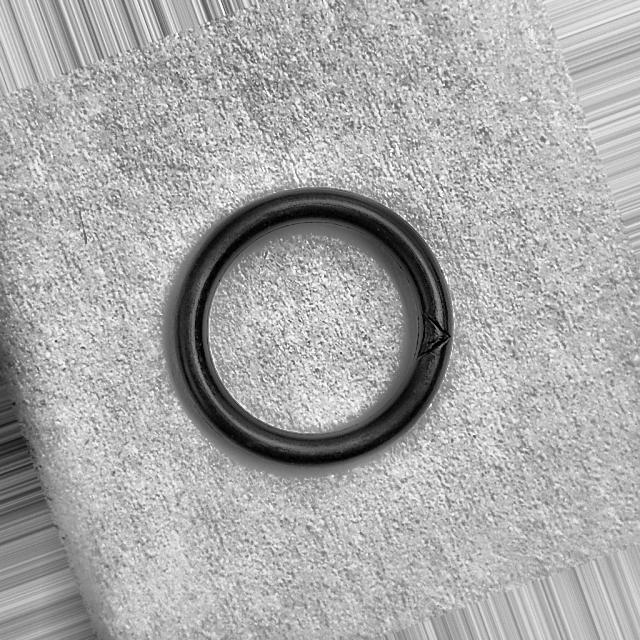切割缺陷: (417, 308, 454, 362)
